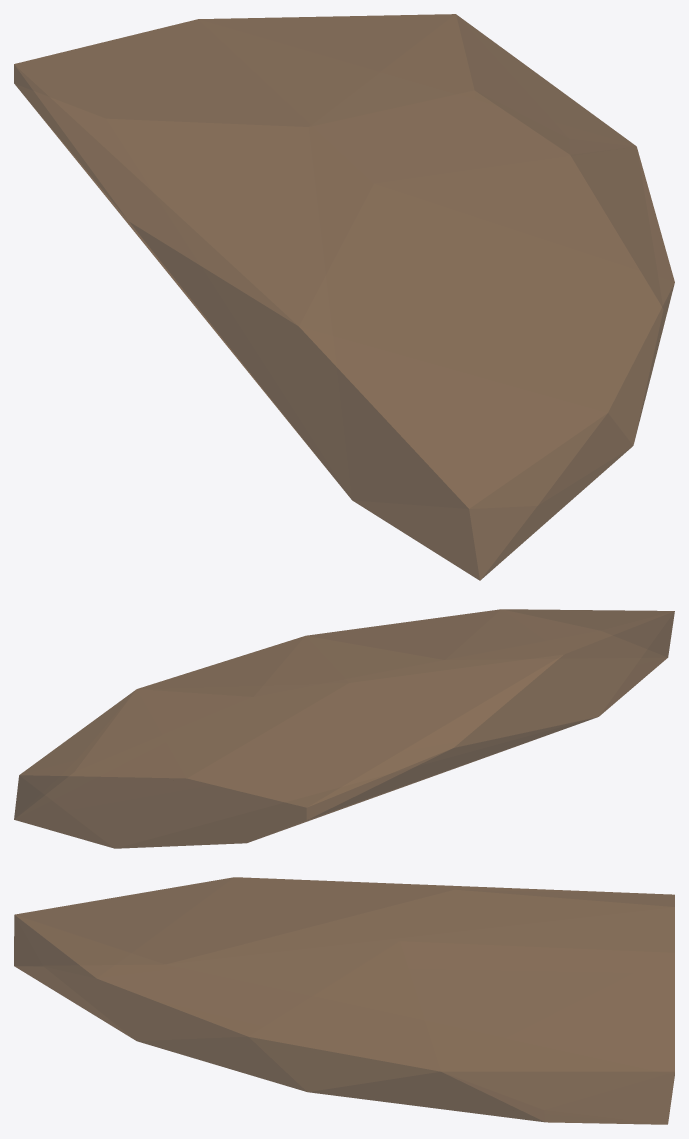
The picture shows the model from 3 angles, top to bottom: view 1: azimuth 30°, elevation 25°; view 2: azimuth 150°, elevation 25°; view 3: azimuth 270°, elevation 25°; orthographic projection. The views are drawn at different scales.
Visible parts, largest first — view 1: Shape_IndexedFaceSet.021_Shape_IndexedFaceSet.16600; view 2: Shape_IndexedFaceSet.021_Shape_IndexedFaceSet.16600; view 3: Shape_IndexedFaceSet.021_Shape_IndexedFaceSet.16600.
Part boxes in pixels (left/top/right/bottom): Shape_IndexedFaceSet.021_Shape_IndexedFaceSet.16600: left=14, top=14, right=674, bottom=580; Shape_IndexedFaceSet.021_Shape_IndexedFaceSet.16600: left=14, top=609, right=674, bottom=848; Shape_IndexedFaceSet.021_Shape_IndexedFaceSet.16600: left=14, top=877, right=674, bottom=1124.
Bounding box in the file's own units: 0.1097 × 0.0276 × 0.1896.
